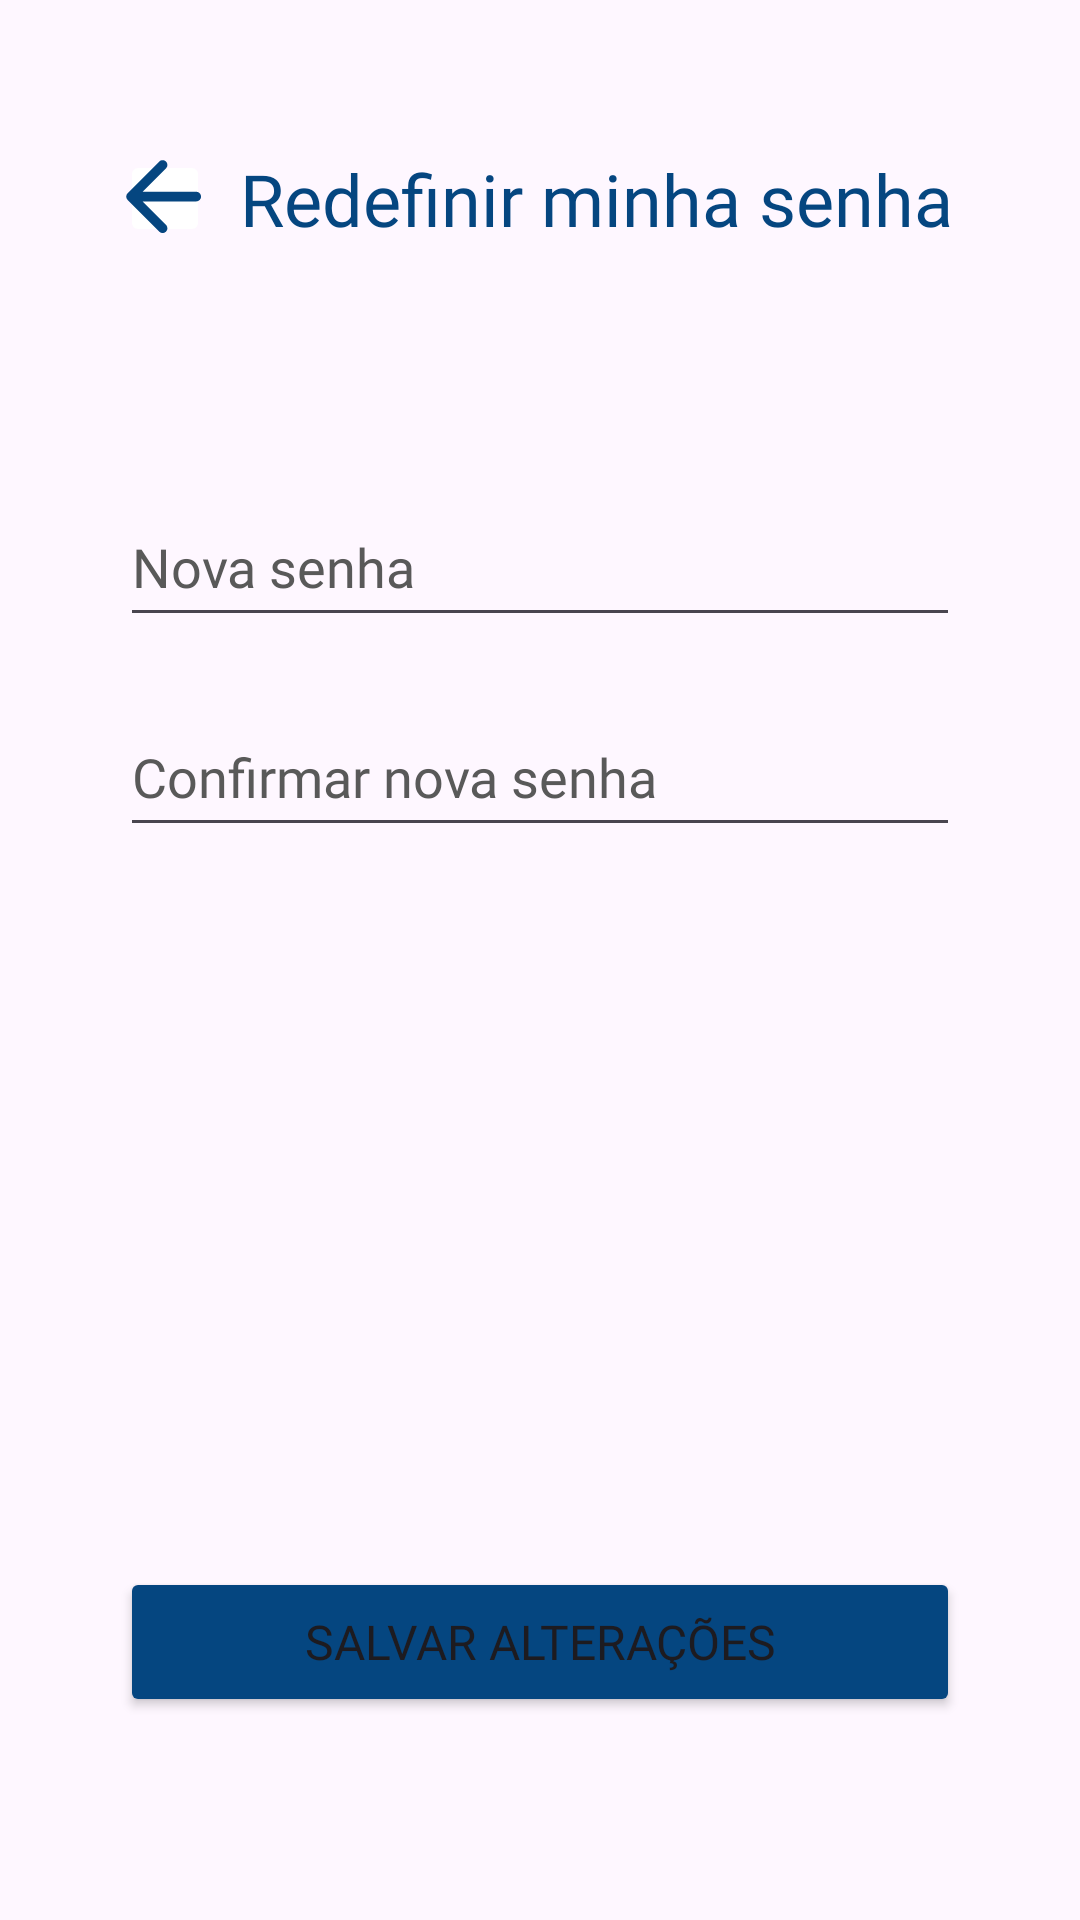

Screen size 1080w x 1920h. Icon name, then its box in pixels as [x1,y1,x2,y2]:
arrow back: [126,160,201,233]
